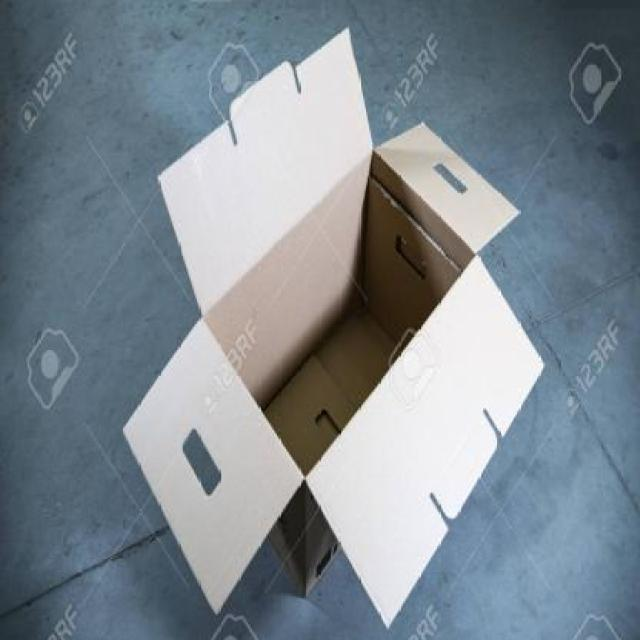box: (110, 25, 568, 630)
